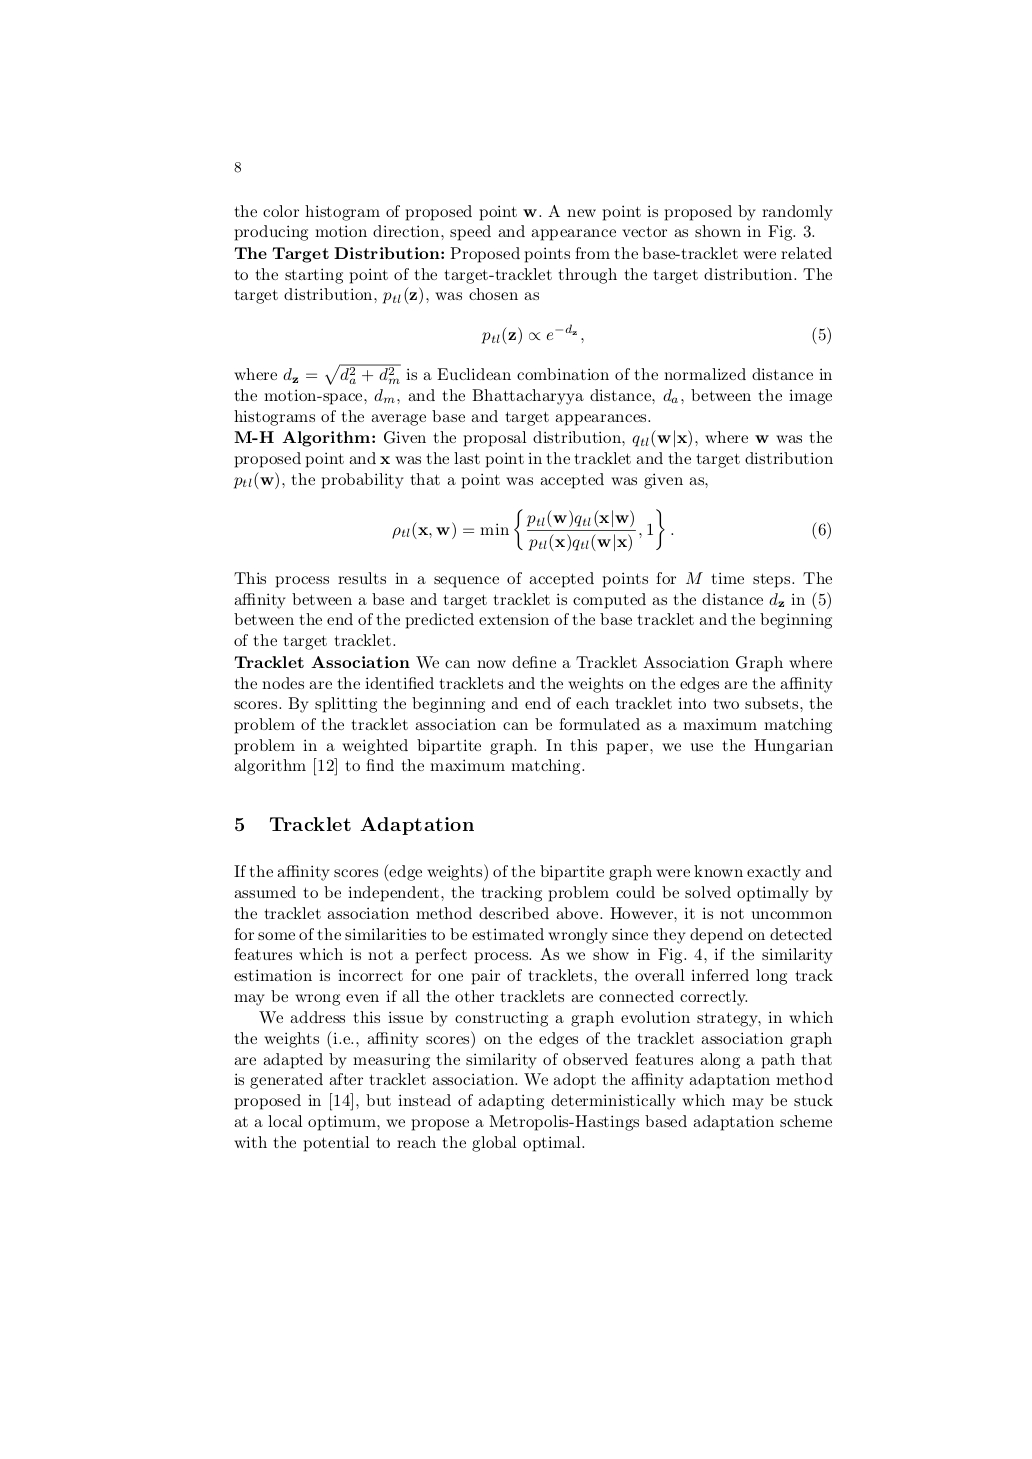formula: (392, 508, 830, 551), (481, 321, 830, 345)
